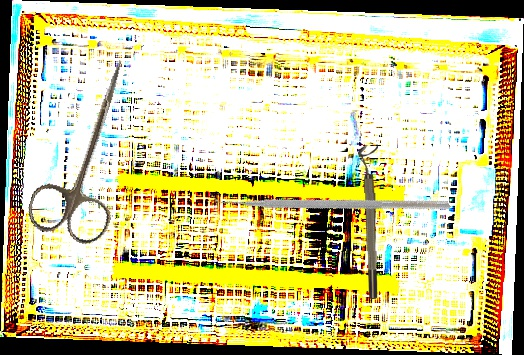Chopper: (204, 82, 452, 311)
Fixation Ring: (357, 144, 381, 300)
Iris Scissors: (22, 46, 157, 250)
